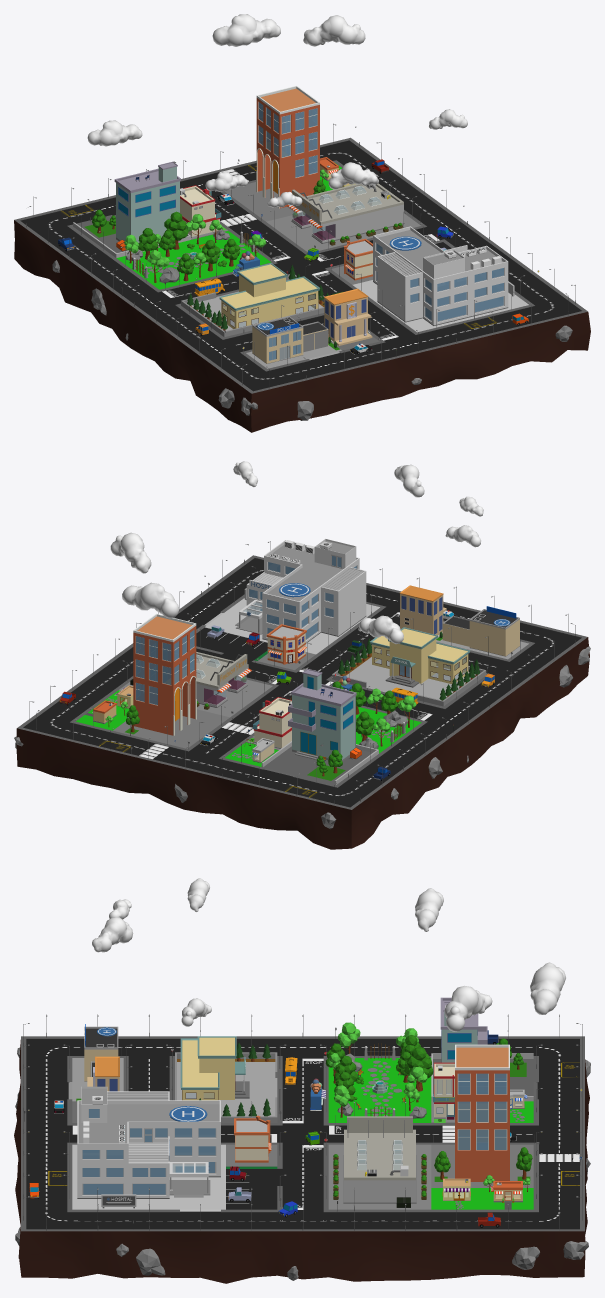
Rendered from low_poly_city.glb.
3 views of the same model, one above another, from view 1: azimuth 30°, elevation 25°; view 2: azimuth 150°, elevation 25°; view 3: azimuth 270°, elevation 25° (orthographic). The views are drawn at different scales.
Visible parts, largest first — view 1: Cube.122, Cube.079, Cube.055, Cube.064, Cube.088, (base) parco.001, Cube.059, Cube.101, Cube.084, vetri, Cube.095, Cube.086 (+57 smaller); view 2: Cube.122, Cube.079, Cube.064, Cube.055, (base) Big house 2, Cube.059, Cube.084, Cube.038, (base).004, (base). Big house, Cube.025, vetri (+55 smaller); view 3: Cube.122, Cube.055, Cube.088, Cube.079, (base) parco.001, vetri, (base) hospital, Cube.025, Cube.084, (base).004, Cube.101, (base).003 (+73 smaller).
Boxes of the visible parts, x1,y1,x2,y2 form: Cube.122: [14, 220, 590, 432]; Cube.079: [256, 98, 319, 208]; Cube.055: [373, 226, 508, 325]; Cube.064: [116, 166, 179, 242]; Cube.088: [292, 183, 403, 224]; (base) parco.001: [116, 231, 271, 289]; Cube.059: [377, 252, 422, 321]; Cube.101: [219, 263, 320, 310]; Cube.084: [258, 102, 317, 177]; vetri: [376, 243, 503, 321]; Cube.095: [221, 291, 318, 328]; Cube.086: [292, 204, 403, 242]; Cube.122: [16, 637, 589, 849]; Cube.079: [133, 626, 196, 735]; Cube.064: [288, 674, 355, 761]; Cube.055: [246, 540, 359, 642]; (base) Big house 2: [261, 741, 378, 784]; Cube.059: [321, 567, 366, 635]; Cube.084: [136, 630, 194, 704]; Cube.038: [469, 609, 519, 656]; (base).004: [339, 650, 475, 699]; (base). Big house: [113, 709, 229, 748]; Cube.025: [267, 544, 342, 601]; vetri: [244, 556, 356, 639]; Cube.122: [14, 1040, 589, 1283]; Cube.055: [77, 1100, 220, 1197]; Cube.088: [344, 1116, 415, 1180]; Cube.079: [455, 1070, 509, 1181]; (base) parco.001: [328, 1058, 431, 1122]; vetri: [82, 1109, 215, 1194]; (base) hospital: [72, 1144, 225, 1209]; Cube.025: [78, 1104, 219, 1143]; Cube.084: [458, 1073, 506, 1149]; (base).004: [177, 1059, 277, 1116]; Cube.101: [180, 1036, 236, 1089]; (base).003: [328, 1144, 431, 1209].
Bounding box in the file's own units: 94.08 × 56.72 × 113.
5 materials, 3 textured.
